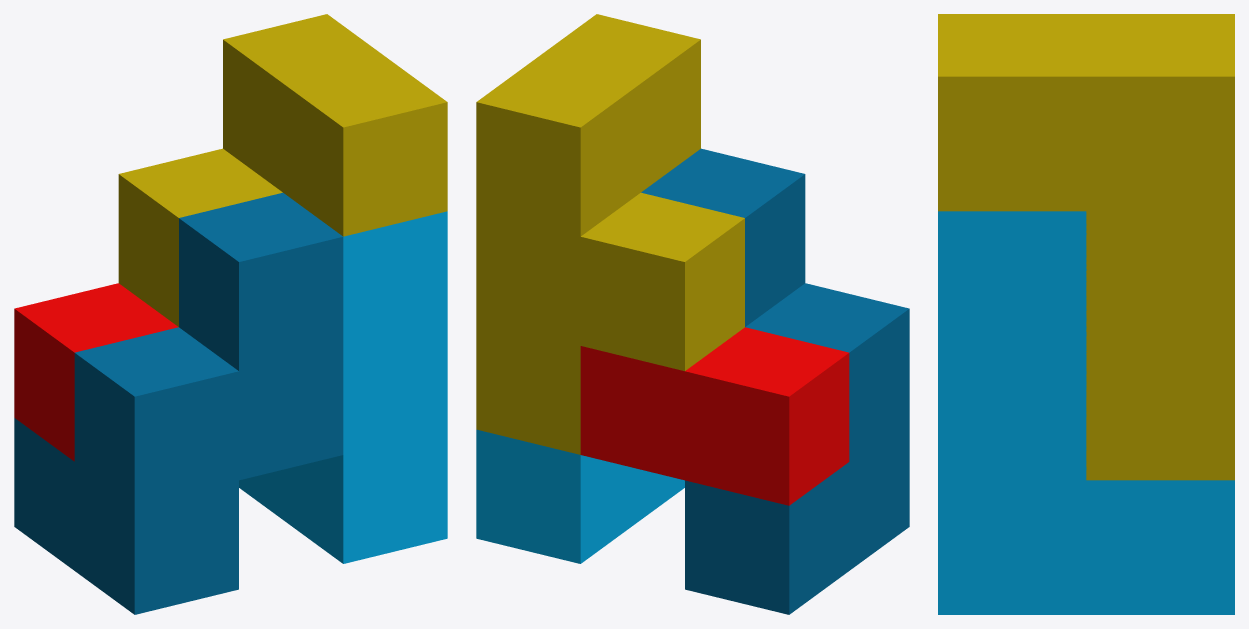
3 views of the same model, side by side, from view 1: azimuth 30°, elevation 25°; view 2: azimuth 150°, elevation 25°; view 3: azimuth 270°, elevation 25° (orthographic). The views are drawn at different scales.
Parts seen in each view (by area): view 1: mergedBlocks(Clone); view 2: mergedBlocks(Clone); view 3: mergedBlocks(Clone).
Boxes of the visible parts, bbox=[...] form: mergedBlocks(Clone): bbox=[14, 14, 447, 614]; mergedBlocks(Clone): bbox=[476, 14, 909, 614]; mergedBlocks(Clone): bbox=[938, 14, 1234, 614].
Bounding box in the file's own units: 3 × 4 × 2.
Materials: 4 (4 with a texture image).
